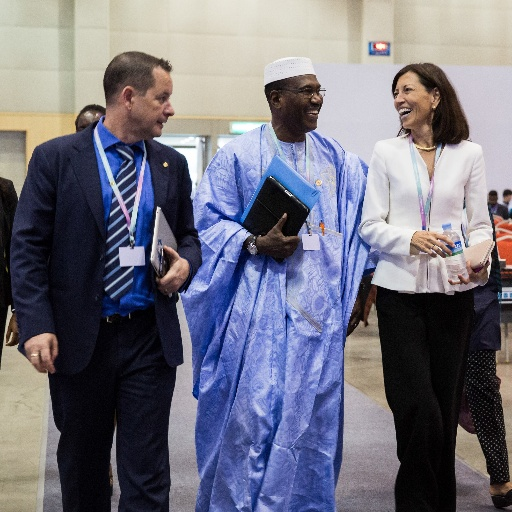hand: (5, 321, 56, 380), (259, 210, 300, 265), (152, 241, 191, 297), (408, 229, 455, 259), (447, 256, 491, 285), (4, 311, 21, 347)
